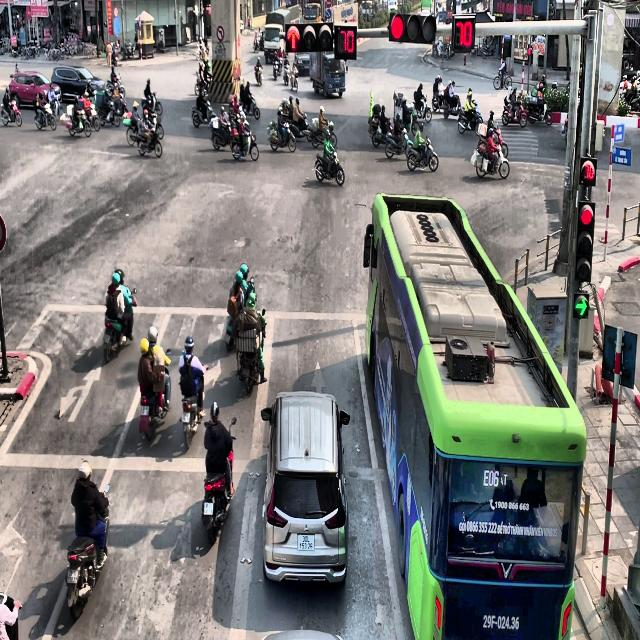BUS: (362, 192, 586, 639)
CAR: (260, 389, 350, 585), (8, 70, 62, 108), (51, 66, 105, 102)
MOTORBIKE: (65, 486, 110, 620), (202, 417, 236, 545), (139, 349, 171, 442), (234, 308, 266, 394), (103, 289, 136, 363), (180, 365, 208, 450), (225, 278, 255, 352), (472, 139, 510, 180), (406, 136, 438, 172), (314, 149, 344, 186), (66, 98, 92, 137), (267, 120, 296, 152), (230, 129, 259, 161), (501, 94, 528, 127), (526, 92, 552, 125), (457, 102, 483, 134), (385, 128, 411, 159), (34, 95, 56, 131), (209, 114, 231, 150), (78, 95, 100, 131), (312, 120, 338, 149), (192, 99, 216, 128), (370, 118, 394, 147), (0, 96, 22, 126), (239, 93, 260, 120), (412, 95, 432, 123), (142, 92, 162, 117), (493, 65, 512, 90), (443, 92, 461, 118), (432, 89, 445, 112), (290, 64, 298, 91), (254, 64, 263, 86), (283, 62, 290, 85)
TRAFFIC_LIGHT: (575, 198, 595, 282), (388, 11, 437, 44), (285, 21, 334, 52), (452, 14, 476, 52), (334, 25, 357, 60), (579, 156, 597, 185)
